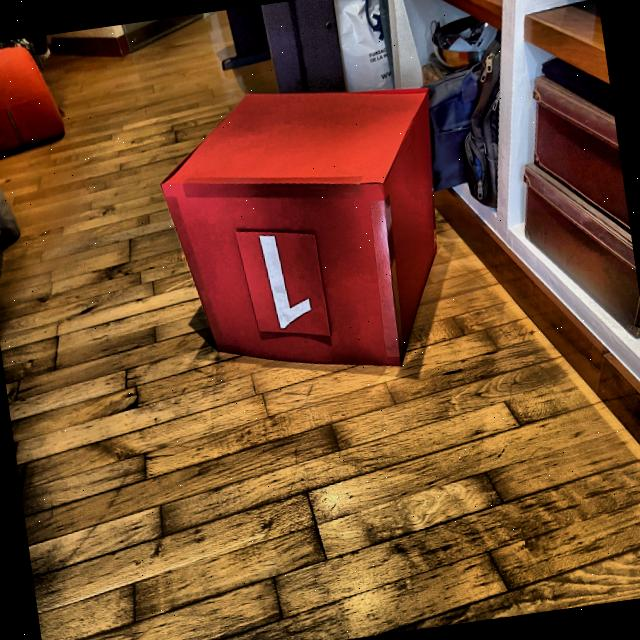one: (258, 228, 316, 332)
red box: (148, 65, 468, 398)
